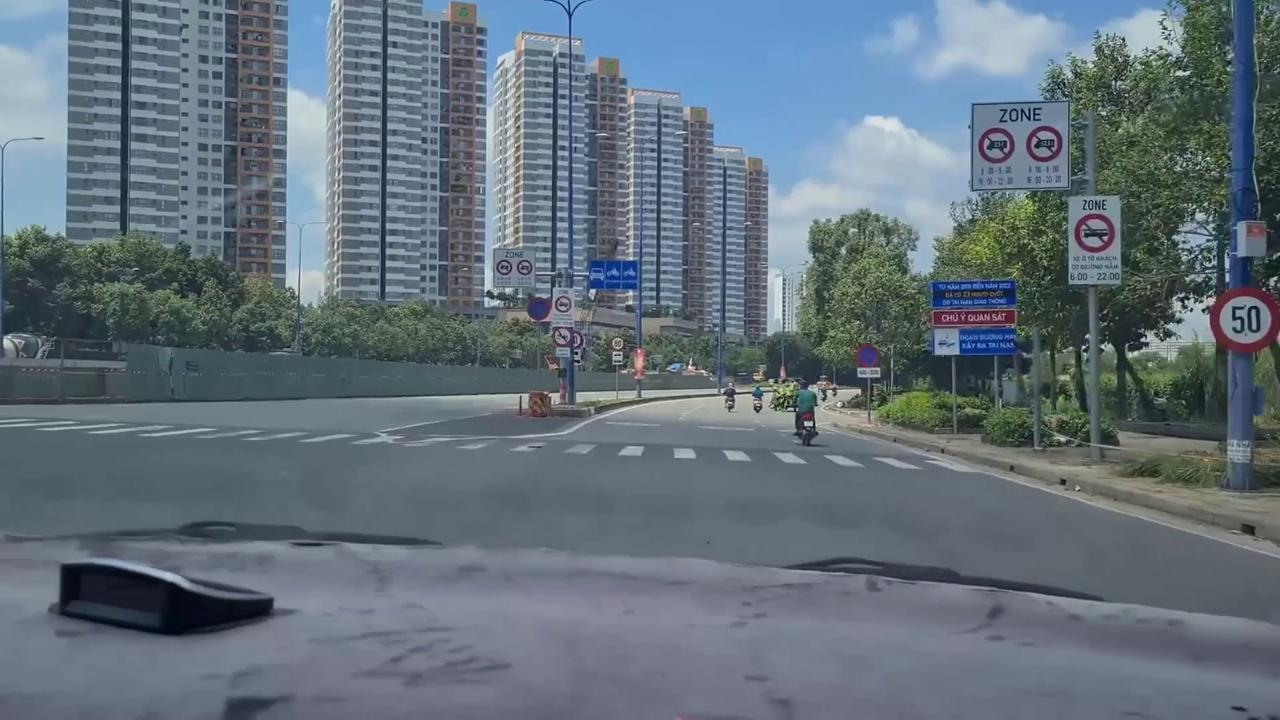Biển phụ: (612, 352, 624, 365)
Cấm cac phương tiện hoạt động trong khung giờ cố định: (970, 100, 1071, 192), (1067, 195, 1122, 285), (493, 247, 536, 289), (552, 287, 575, 327)
Cấm dừng - Cấm đỗ: (855, 343, 881, 367), (526, 296, 550, 321)
Cấm xe máy: (554, 328, 572, 346)
Giới hạn tốc độ 50Km/h: (1210, 286, 1280, 352)
Giới hạn tốc độ 80Km/h: (611, 336, 624, 350)
Khác: (932, 281, 1018, 356)
Làn đường cho từng xe: (589, 260, 638, 290)
